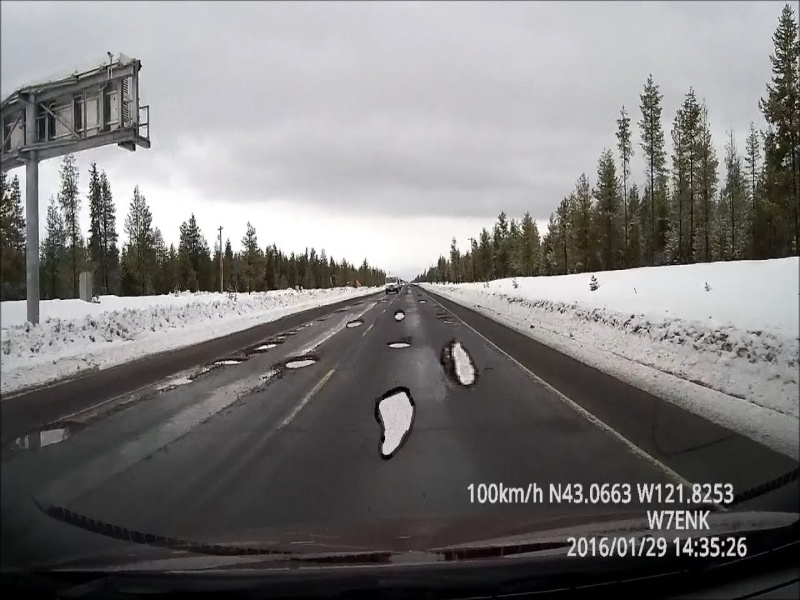pothole: (366, 385, 418, 460), (6, 417, 86, 452), (436, 340, 481, 390), (279, 354, 321, 373), (249, 338, 284, 352), (209, 357, 248, 367), (342, 316, 366, 332), (383, 338, 410, 350), (393, 310, 404, 322), (416, 297, 428, 306)
